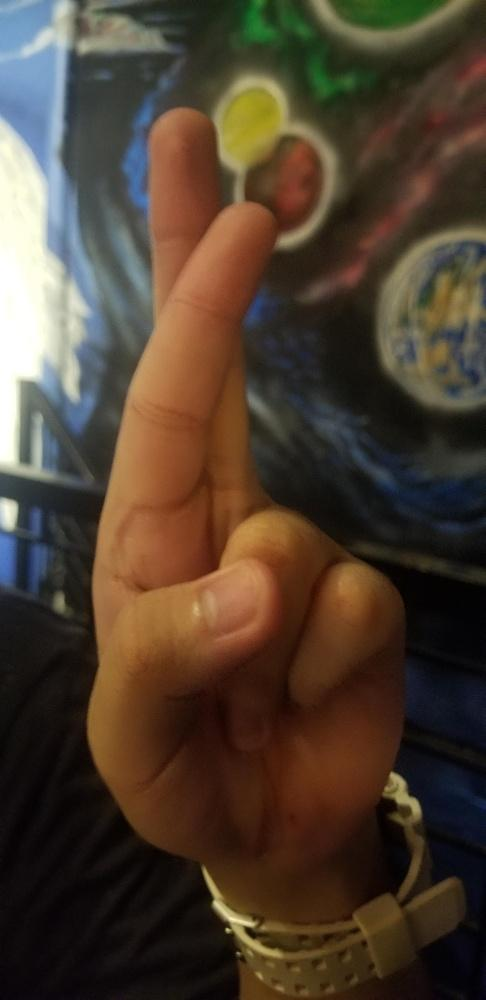r: (86, 99, 410, 859)
